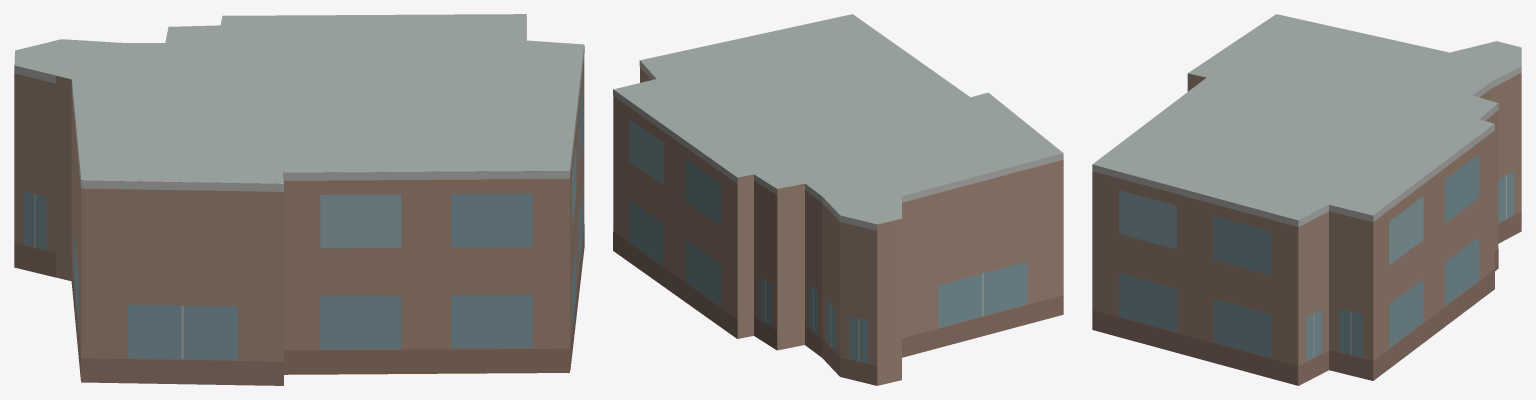
The model's file is survey-upis-33008629.glb.
3 renders of one model, left to right at view 1: azimuth 30°, elevation 25°; view 2: azimuth 150°, elevation 25°; view 3: azimuth 270°, elevation 25°, orthographic. The views are drawn at different scales.
Parts seen in each view (by area): view 1: survey-upis-33008629.tmp; view 2: survey-upis-33008629.tmp; view 3: survey-upis-33008629.tmp.
Boxes of the visible parts, x1,y1,x2,y2 form: survey-upis-33008629.tmp: (14,14,584,385); survey-upis-33008629.tmp: (613,14,1063,385); survey-upis-33008629.tmp: (1092,14,1521,385).
Bounding box in the file's own units: 16.34 × 6.1 × 14.36.
